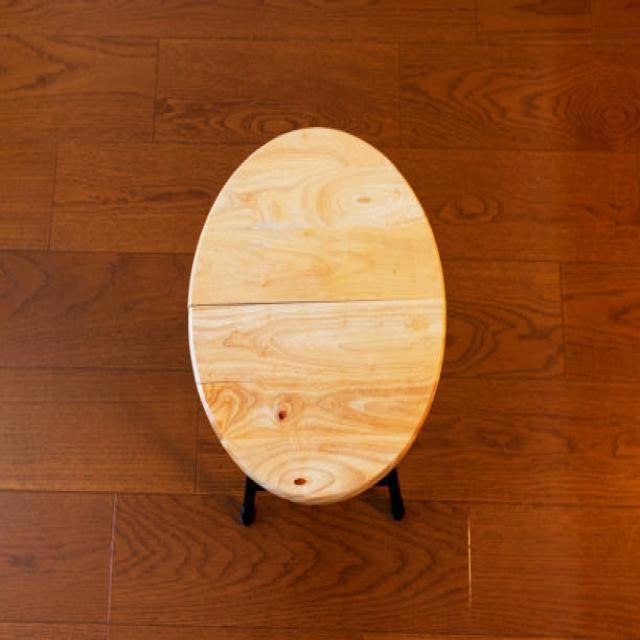table: (186, 124, 447, 526)
